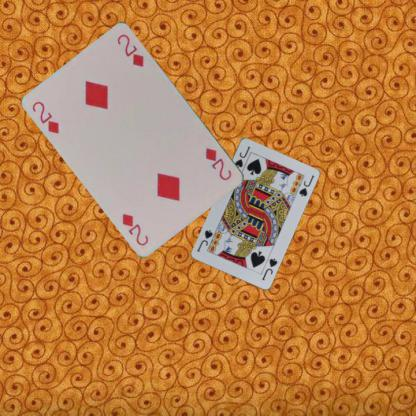2d: (203, 145, 234, 182), (30, 98, 61, 135)
Js: (232, 143, 252, 169), (259, 255, 278, 281)
